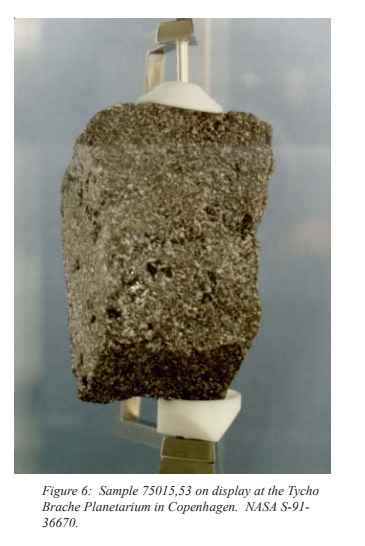Basalt: (31, 90, 310, 389)
